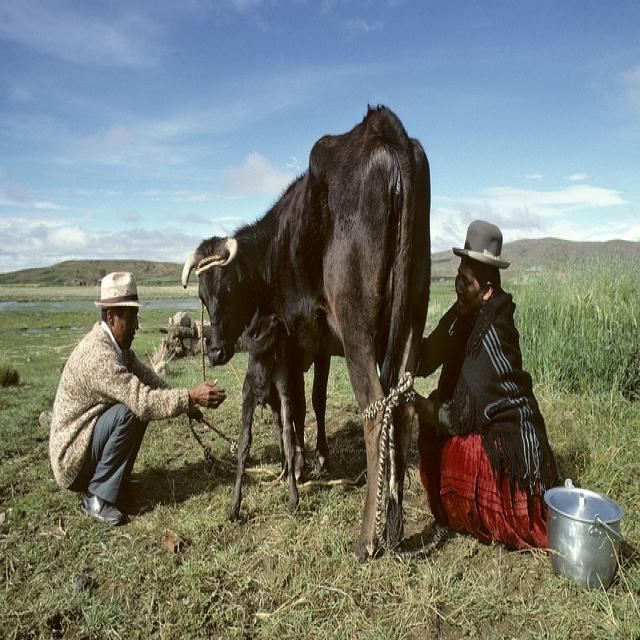cow: (180, 105, 431, 558), (225, 296, 342, 518)
